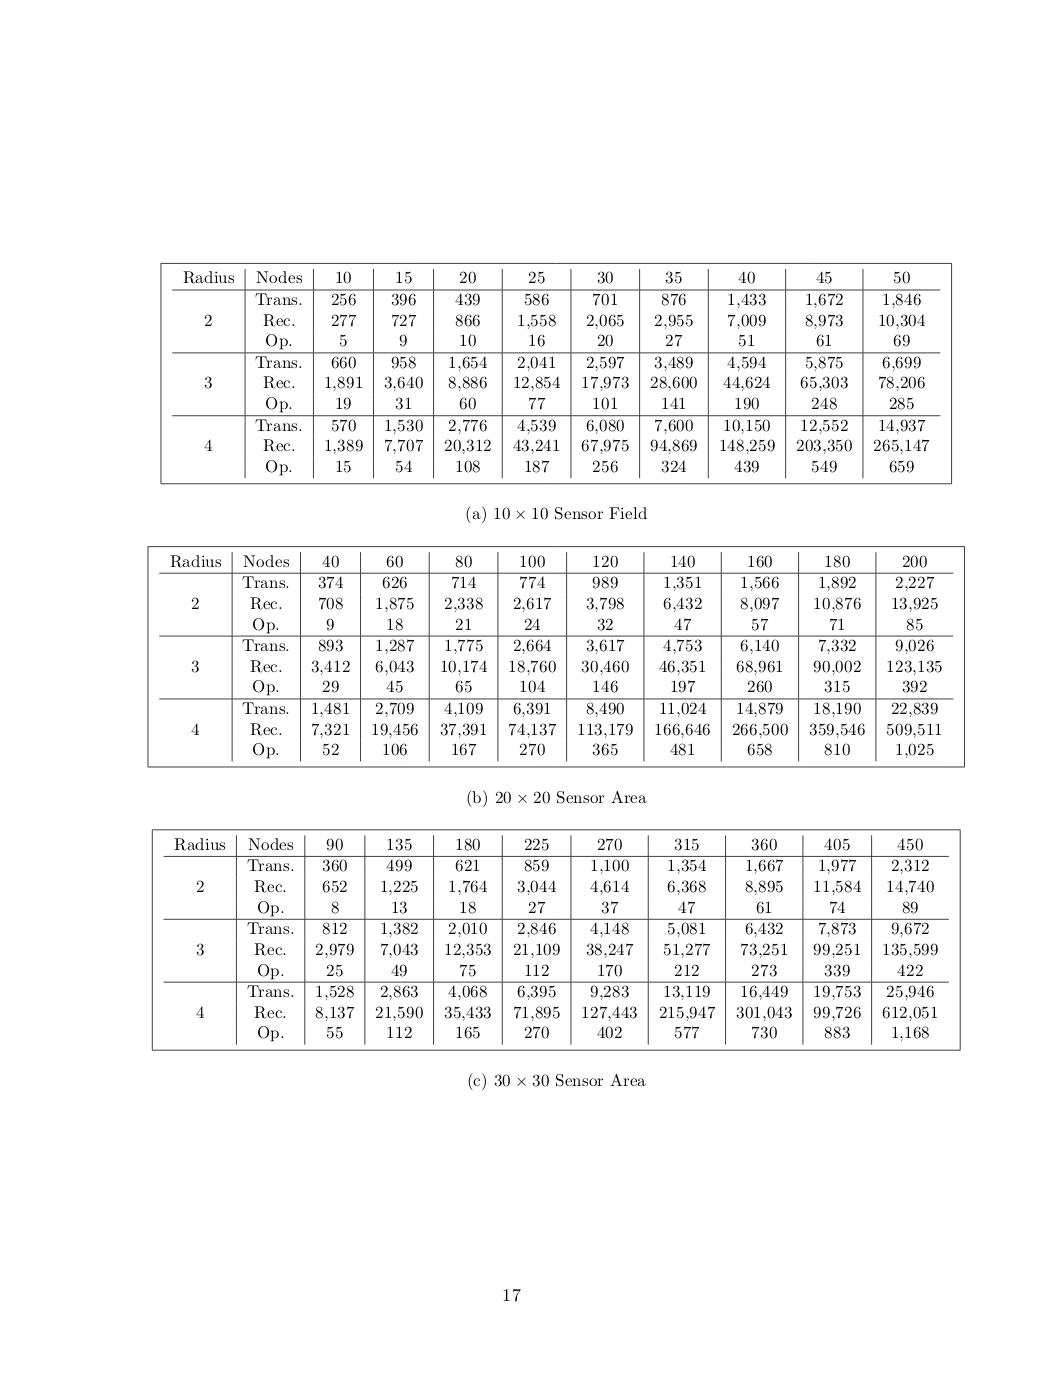Table: (147, 545, 964, 768), (150, 828, 960, 1051), (160, 261, 951, 485)
